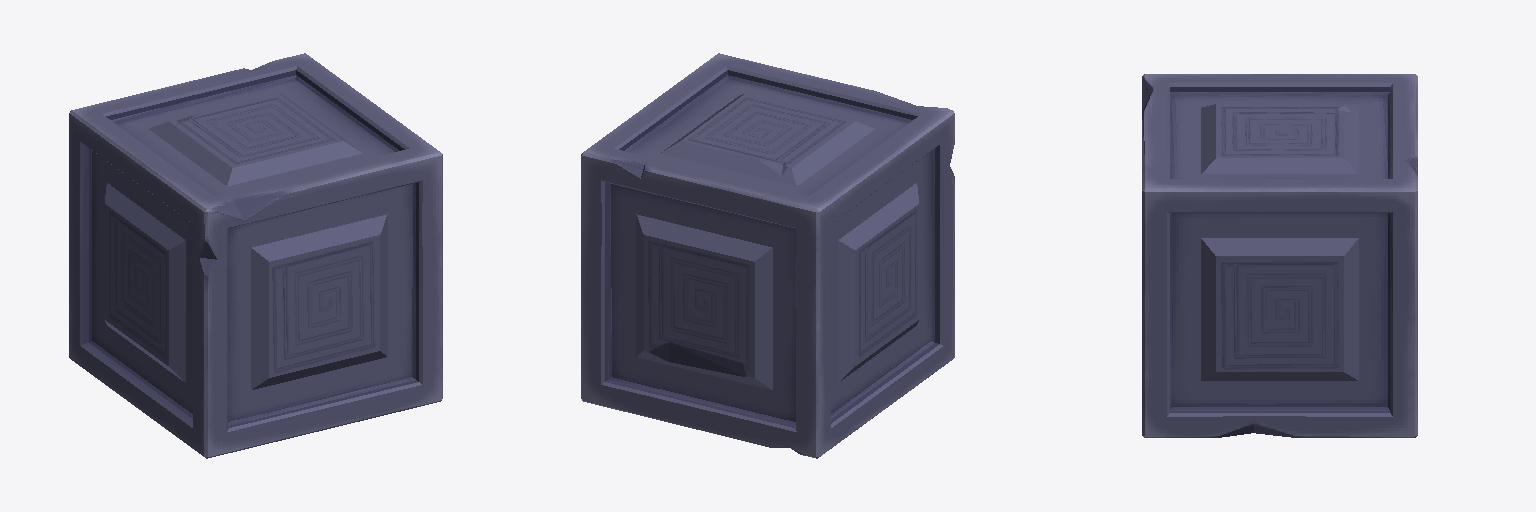
3 views of the same model, side by side, from view 1: azimuth 30°, elevation 25°; view 2: azimuth 150°, elevation 25°; view 3: azimuth 270°, elevation 25° (orthographic).
Visible parts, largest first — view 1: pCube1; view 2: pCube1; view 3: pCube1.
Part boxes in pixels (x1,y1,x2,y2): pCube1: (69,53,442,458); pCube1: (581,53,954,458); pCube1: (1142,74,1417,437).
Bounding box in the file's own units: 3 × 3 × 3.
Materials: 1 (1 with a texture image).